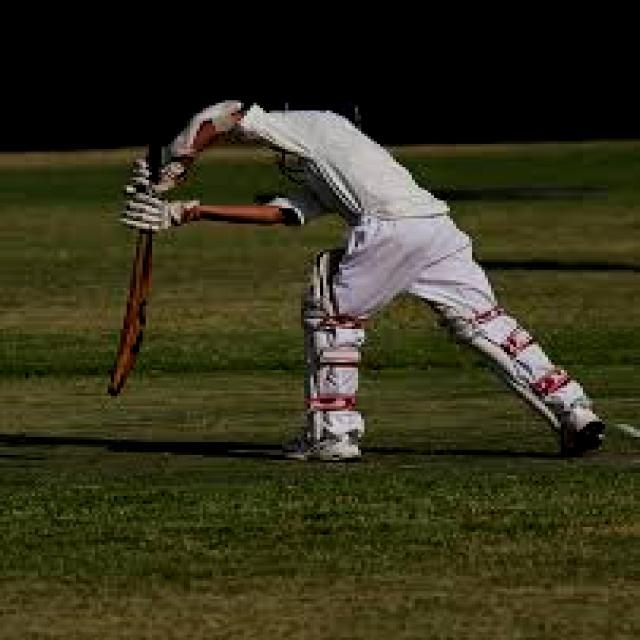bat: (94, 213, 160, 415)
toe: (96, 385, 131, 404)
